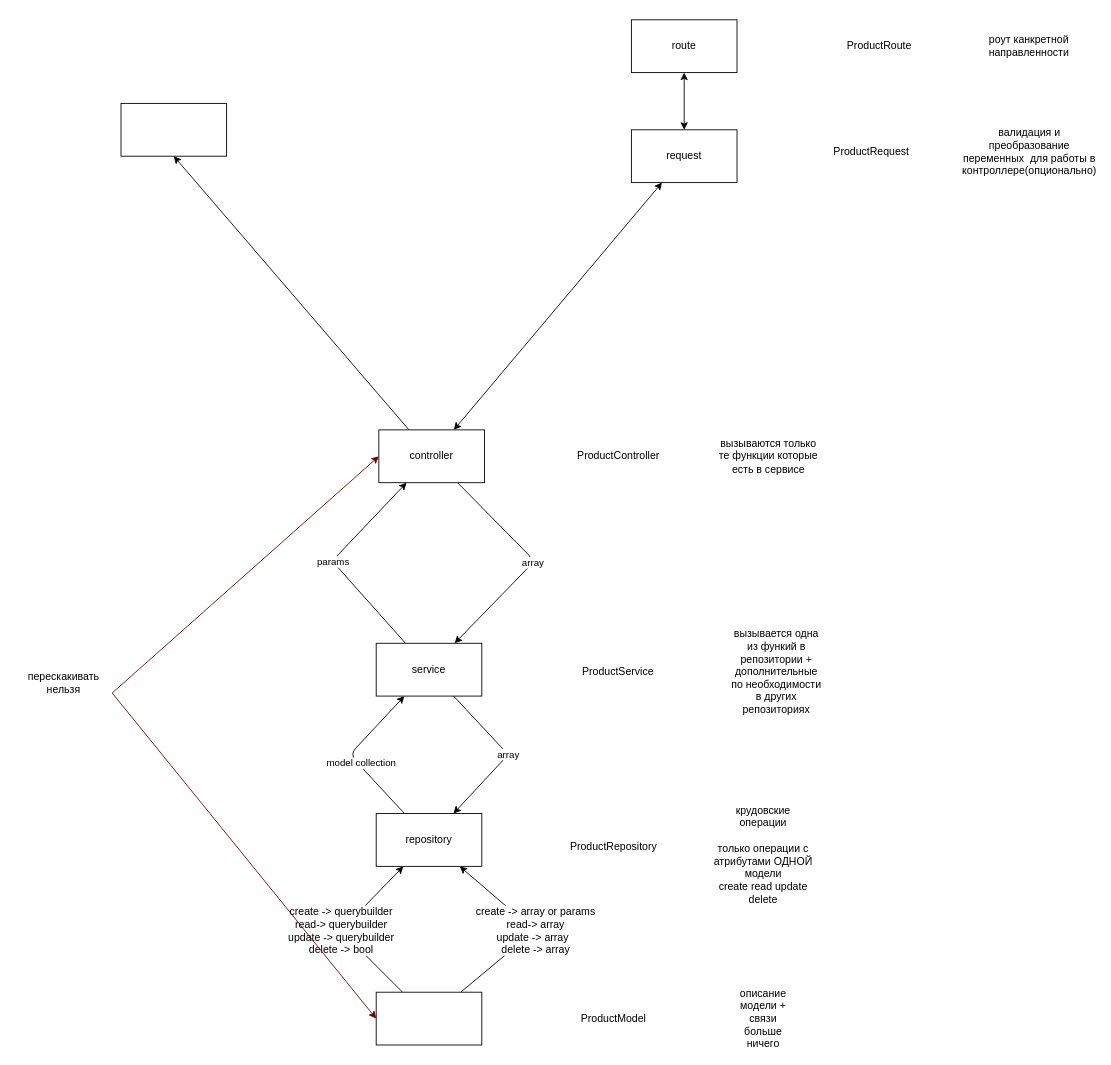
Some shapes in this 1111 by 1065 pixel diagram are drawn without their labels. The shapes that lost their labels are listed below. From the top down, each one's centre as x and y in pixels, then its label:
pixel 173 129: responce
pixel 428 1018: model
